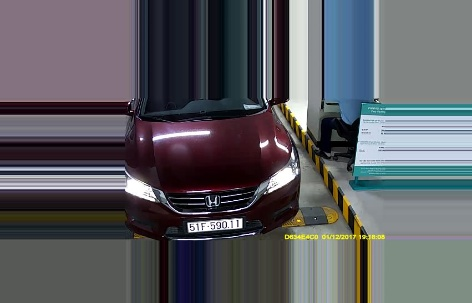plate: (182, 219, 246, 234)
